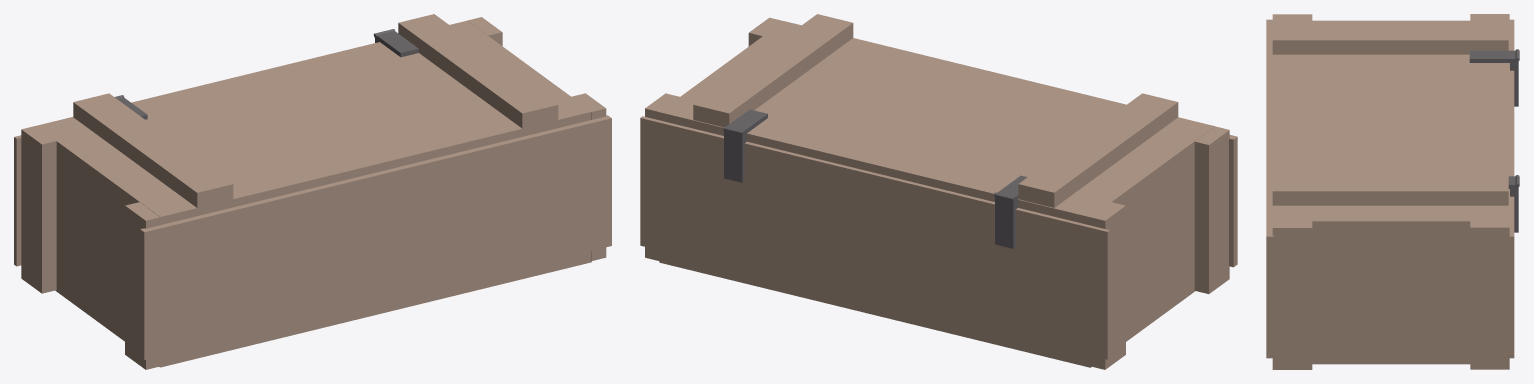
File: ammoBox.gltf
The picture shows the model from 3 angles, left to right: view 1: azimuth 30°, elevation 25°; view 2: azimuth 150°, elevation 25°; view 3: azimuth 270°, elevation 25°; orthographic projection. The views are drawn at different scales.
Parts seen in each view (by area): view 1: Part (×9); view 2: Part (×11); view 3: Part (×12).
Part boxes in pixels (<box>): Part (×9): <box>14,14,611,369</box>; Part (×11): <box>640,14,1237,369</box>; Part (×12): <box>1266,14,1518,369</box>.
Size of the model in its own units: 6.5 by 2.2 by 3.2.
